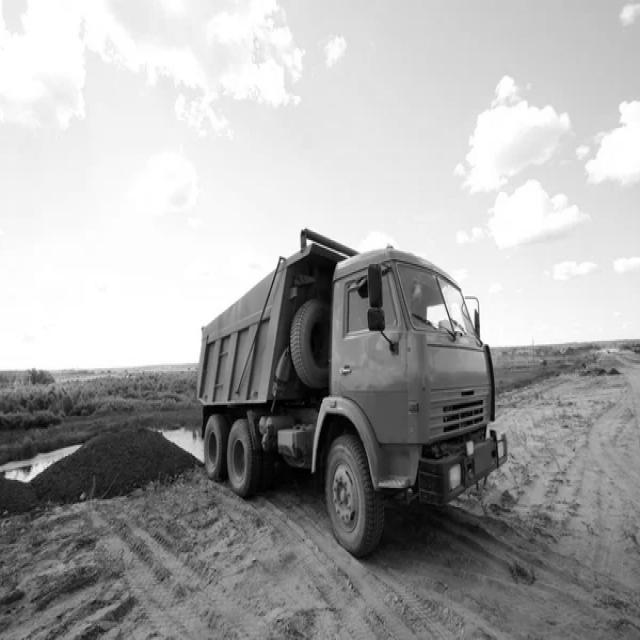Truck: (197, 228, 509, 558)
